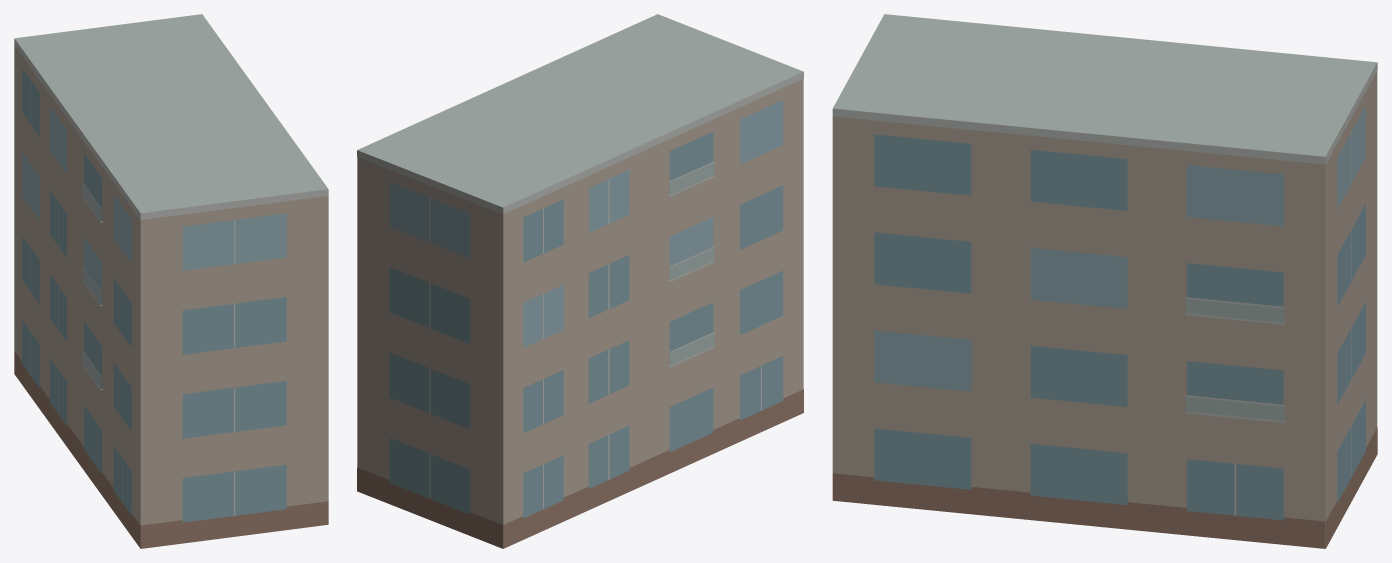
The model's file is residential-0ead9124-430e-4110-8f40-396ea3e6639d.glb.
The picture shows the model from 3 angles, left to right: view 1: azimuth 30°, elevation 25°; view 2: azimuth 150°, elevation 25°; view 3: azimuth 270°, elevation 25°; orthographic projection. The views are drawn at different scales.
Visible parts, largest first — view 1: residential-0ead9124-430e-4110-8f40-396ea3e6639d.tmp; view 2: residential-0ead9124-430e-4110-8f40-396ea3e6639d.tmp; view 3: residential-0ead9124-430e-4110-8f40-396ea3e6639d.tmp.
Part boxes in pixels (x1,y1,x2,y2): residential-0ead9124-430e-4110-8f40-396ea3e6639d.tmp: (14,14,328,548); residential-0ead9124-430e-4110-8f40-396ea3e6639d.tmp: (357,14,803,548); residential-0ead9124-430e-4110-8f40-396ea3e6639d.tmp: (832,14,1377,548).
Bounding box in the file's own units: 9.54 × 12.2 × 15.37.
